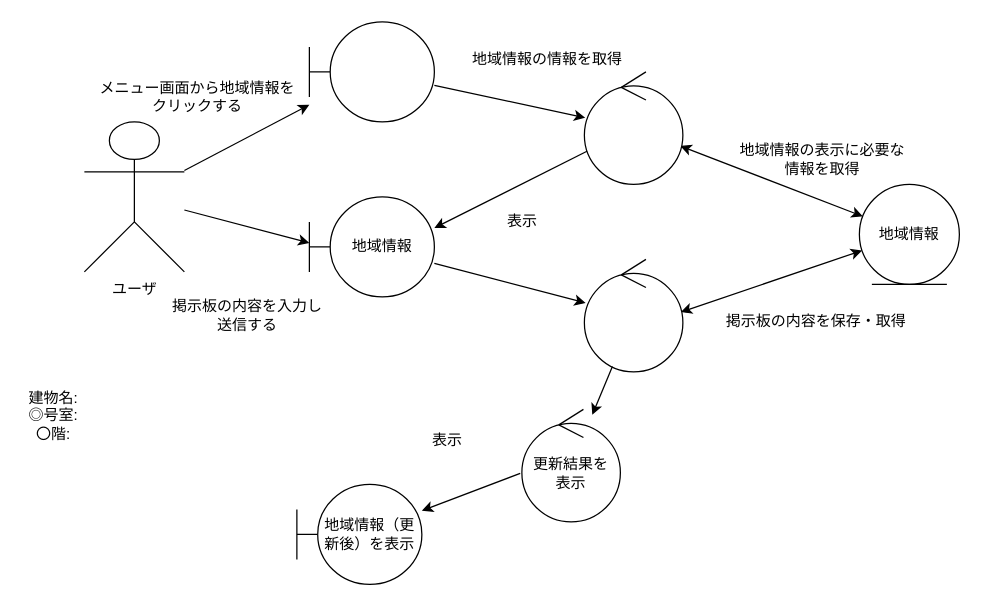
Image size: 981x606. Some labels were removed from this diagram. The shapes that lost their labels are listed below. From the top down, each one's centre as x and y in pixels, then its label:
At point 371,71: "Webサイト".
At point 633,127: "地域情報の表示".
At point 633,315: "内容を保存・取得".
